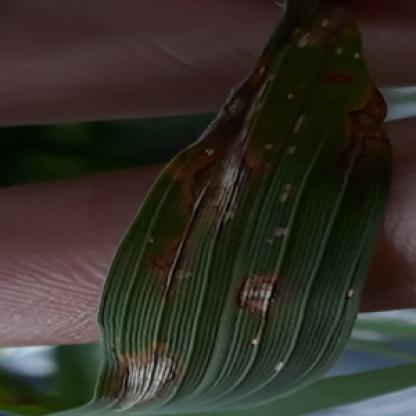Rice blast: (148, 100, 264, 304), (108, 341, 174, 414), (339, 86, 395, 169), (295, 1, 352, 54), (240, 262, 286, 323)
